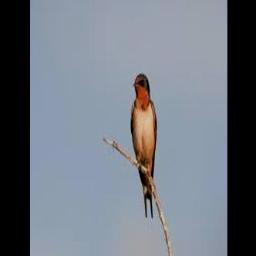Swallow: (131, 73, 157, 217)
